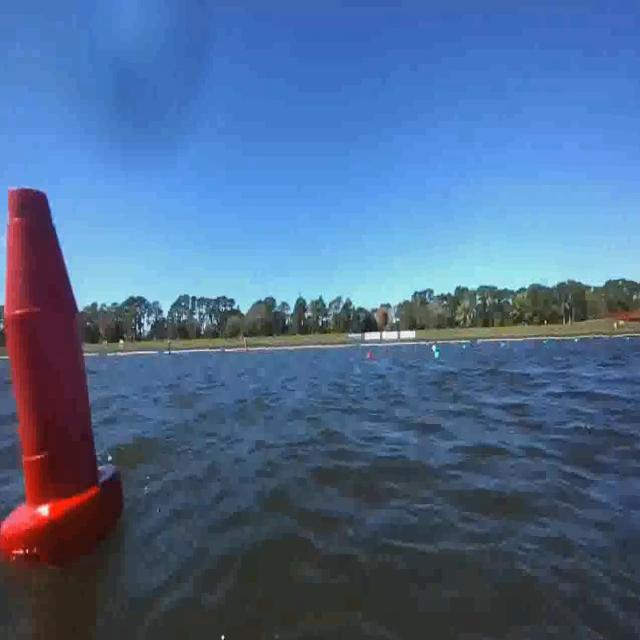red-column-buoy: (3, 173, 128, 563)
